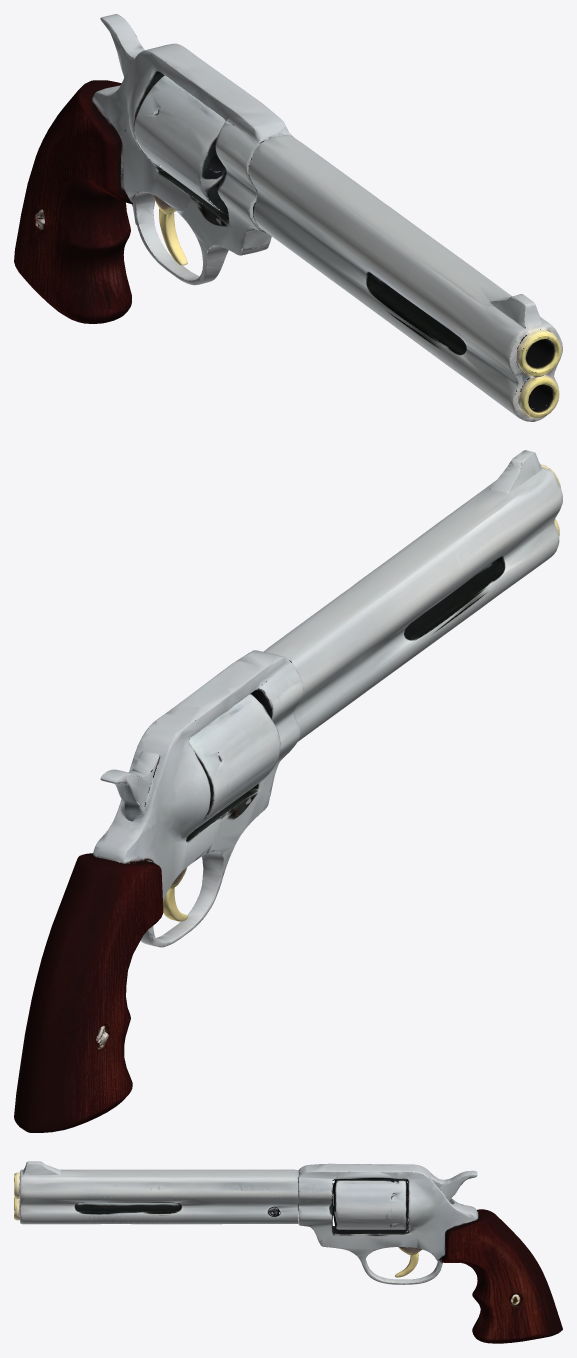
Rendered from revolver.glb.
3 renders of one model, top to bottom at view 1: azimuth 30°, elevation 25°; view 2: azimuth 150°, elevation 25°; view 3: azimuth 270°, elevation 25°, orthographic. The views are drawn at different scales.
Visible parts, largest first — view 1: model; view 2: model; view 3: model.
Part boxes in pixels (bbox=[...]): model: bbox=[14, 14, 562, 421]; model: bbox=[14, 450, 562, 1132]; model: bbox=[14, 1161, 562, 1343].
Bounding box in the file's own units: 5643 × 22315 × 62554.
1 material, 1 textured.
